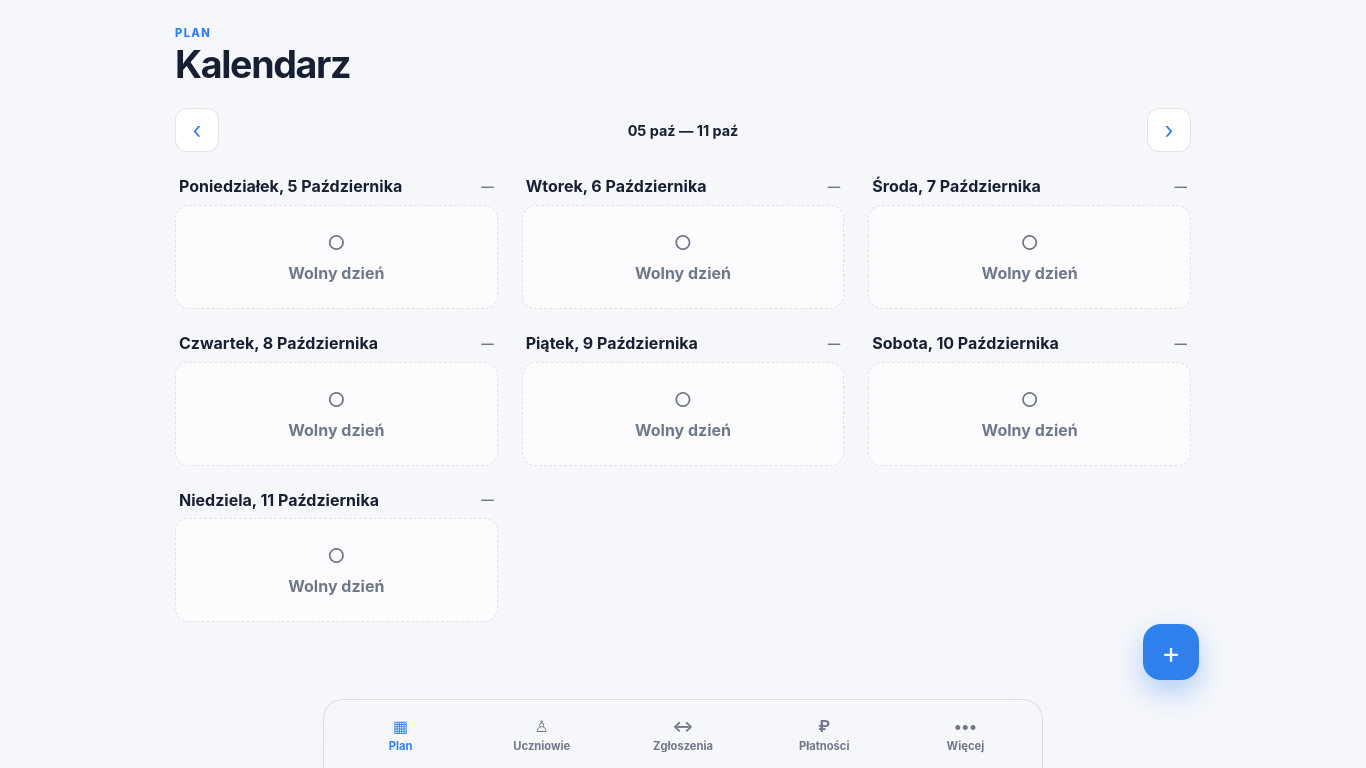
Test case: mobile navigation › keeps admin navigation to five items and moves secondary screens under More
This screenshot has width=1366, height=768.
Click the button "••• Więcej": click(965, 734) [895,706,1036,762]
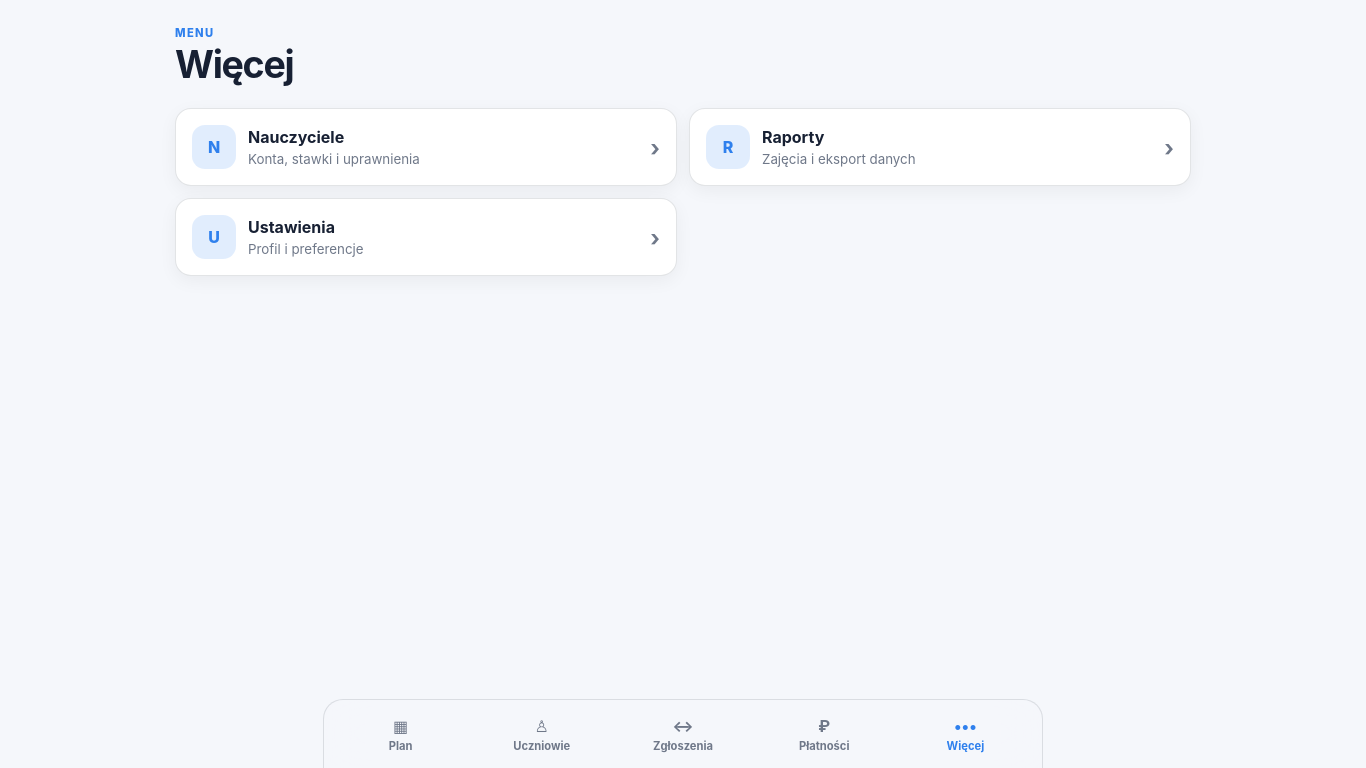
Result: the heading "Więcej" is shown at [175,45,293,86]
Result: the button "N Nauczyciele Konta, stawki i uprawnienia ›" is shown at [175,108,677,186]
